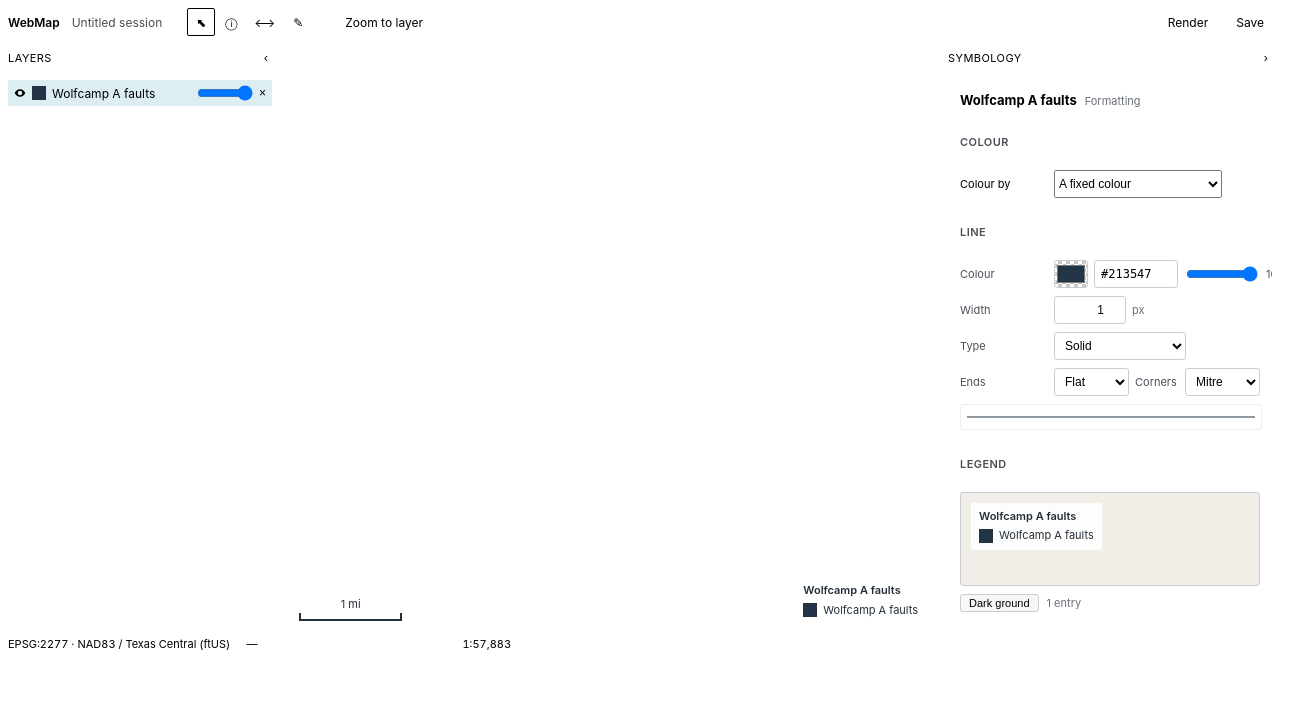
Test: starting an edit session › refuses without the dataset version, and says why
Click the radio button named "Edit" at (298, 22), box [284,8,312,36]
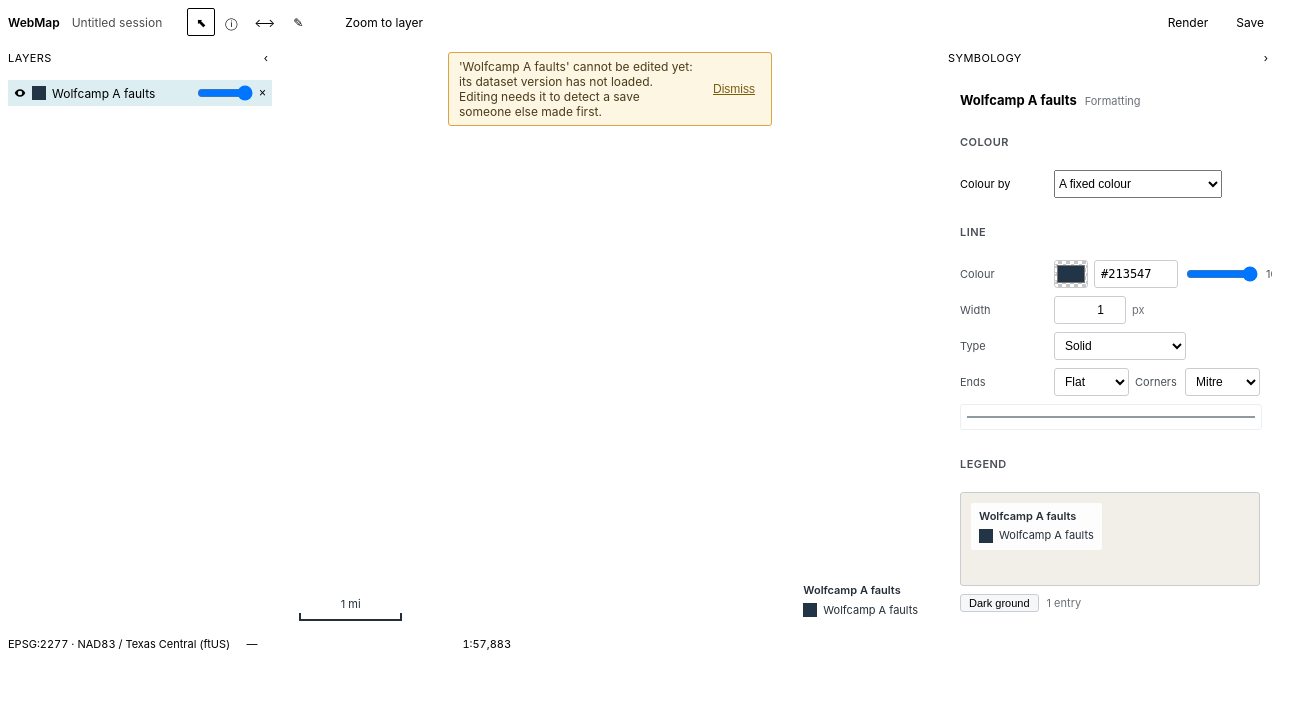
Check: the message named "Editing notice" shows "dataset version has not loaded", box [459,59,693,119]
